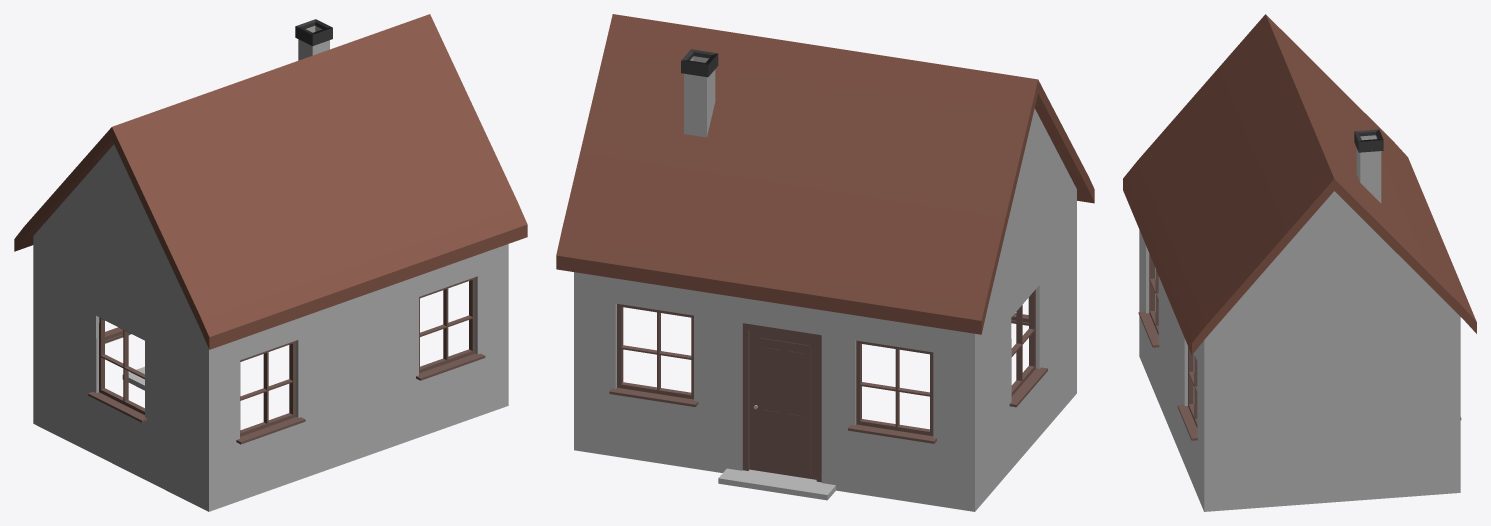
The model's file is nyc-house-a.glb.
3 renders of one model, left to right at view 1: azimuth 30°, elevation 25°; view 2: azimuth 150°, elevation 25°; view 3: azimuth 270°, elevation 25°, orthographic. The views are drawn at different scales.
Visible parts, largest first — view 1: Box001, Box003; view 2: Box001, Box039, Plane006, Box040, Box002, Box032, Box033, Box035, Box036, Box037, Box038, Box003 (+2 smaller); view 3: Box001, Box002, Box003.
Part boxes in pixels (box(x1,y1,x2,y2)): Box001: box(14, 14, 527, 511); Box003: box(295, 19, 332, 46); Box001: box(556, 14, 1094, 511); Box039: box(758, 338, 810, 477); Plane006: box(749, 330, 816, 479); Box040: box(718, 468, 835, 500); Box002: box(684, 56, 715, 137); Box032: box(742, 328, 749, 470); Box033: box(816, 335, 821, 482); Box035: box(764, 347, 779, 399); Box036: box(788, 351, 803, 402); Box037: box(788, 414, 803, 465); Box038: box(764, 410, 779, 461); Box003: box(681, 49, 718, 77); Box001: box(1123, 14, 1476, 511); Box002: box(1356, 135, 1381, 203); Box003: box(1354, 129, 1383, 152).
Bounding box in the file's own units: 117 × 97.47 × 94.02.
